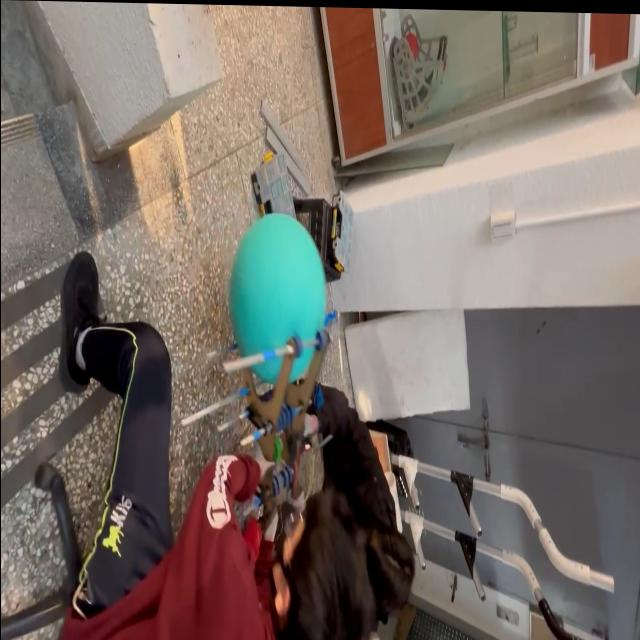ALGAE: (226, 209, 328, 387)
